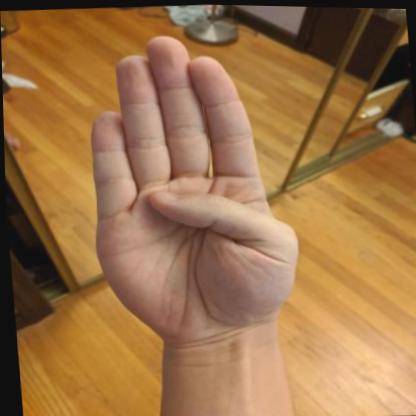B: (70, 20, 315, 362)
